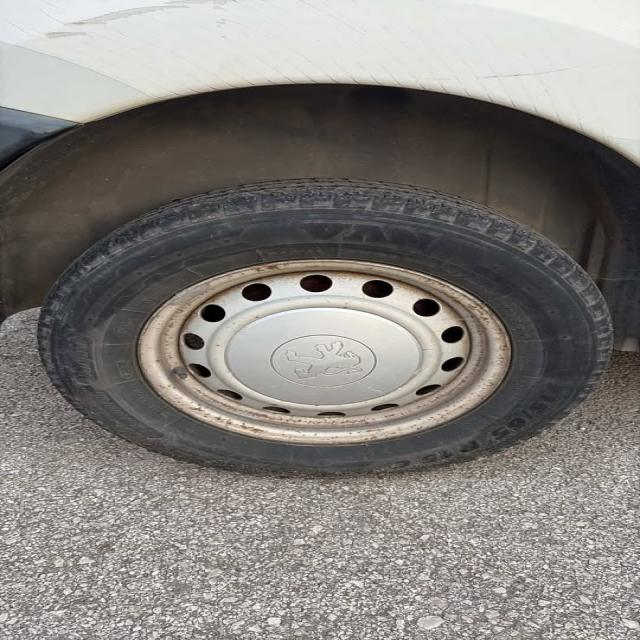jante: (136, 260, 512, 445)
roda: (36, 177, 614, 474)
